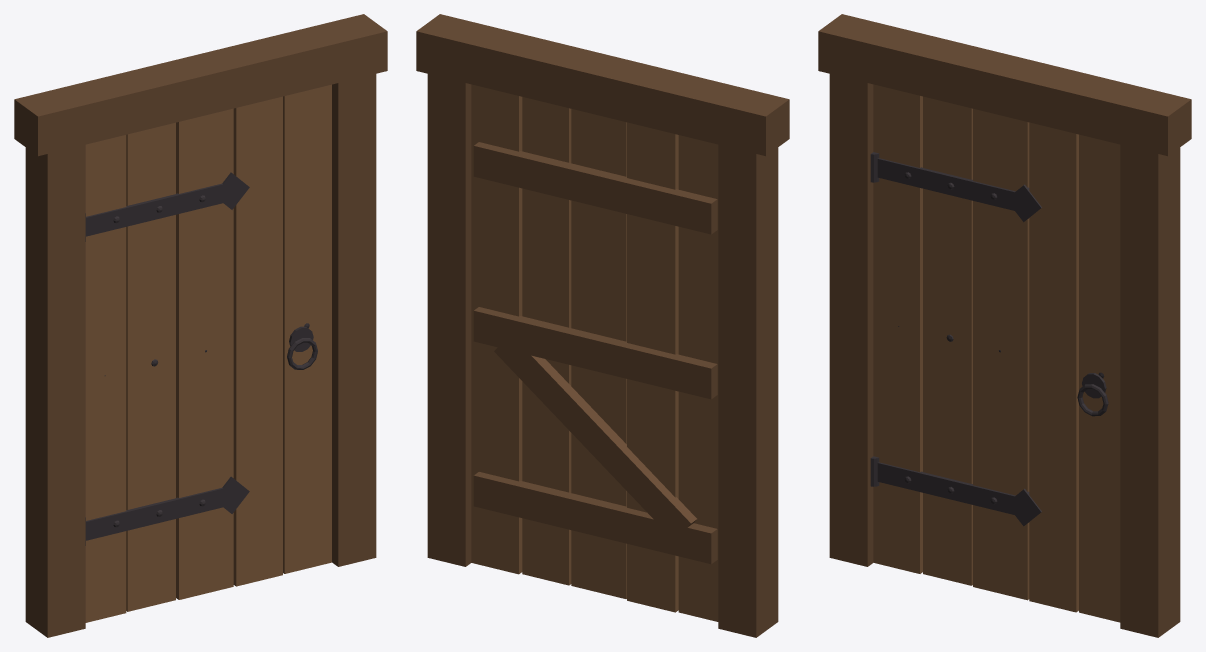
Rendered from SM_Door_Rustic_01.glb.
3 renders of one model, left to right at view 1: azimuth 30°, elevation 25°; view 2: azimuth 150°, elevation 25°; view 3: azimuth 330°, elevation 25°, orthographic.
Visible parts, largest first — view 1: SM_Door_Rustic_01_Frame, SM_Door_Rustic_01_Plank3, SM_Door_Rustic_01_Plank4, SM_Door_Rustic_01_Plank5, SM_Door_Rustic_01_JambR, SM_Door_Rustic_01_Plank2, SM_Door_Rustic_01_Lintel, SM_Door_Rustic_01_Plank1, SM_Door_Rustic_01_Strap_1.8, SM_Door_Rustic_01_Strap_0.42, SM_Door_Rustic_01_StrapTip_0.42, SM_Door_Rustic_01_StrapTip_1.8; view 2: SM_Door_Rustic_01_Frame, SM_Door_Rustic_01_JambR, SM_Door_Rustic_01_Lintel, SM_Door_Rustic_01_Plank5, SM_Door_Rustic_01_Plank3, SM_Door_Rustic_01_Plank2, SM_Door_Rustic_01_Plank4, SM_Door_Rustic_01_Plank1, SM_Door_Rustic_01_Ledge3, SM_Door_Rustic_01_Ledge2, SM_Door_Rustic_01_Ledge1, SM_Door_Rustic_01_Brace; view 3: SM_Door_Rustic_01_JambR, SM_Door_Rustic_01_Plank3, SM_Door_Rustic_01_Plank4, SM_Door_Rustic_01_Frame, SM_Door_Rustic_01_Plank1, SM_Door_Rustic_01_Plank2, SM_Door_Rustic_01_Lintel, SM_Door_Rustic_01_Plank5, SM_Door_Rustic_01_Strap_0.42, SM_Door_Rustic_01_Strap_1.8, SM_Door_Rustic_01_StrapTip_1.8, SM_Door_Rustic_01_StrapTip_0.42.
Boxes of the visible parts, x1,y1,x2,y2 form: SM_Door_Rustic_01_Frame: (25,88,85,637); SM_Door_Rustic_01_Plank3: (176,108,233,599); SM_Door_Rustic_01_Plank4: (233,96,282,586); SM_Door_Rustic_01_Plank5: (283,84,331,573); SM_Door_Rustic_01_JambR: (316,17,376,566); SM_Door_Rustic_01_Plank2: (126,122,175,611); SM_Door_Rustic_01_Lintel: (14,14,387,156); SM_Door_Rustic_01_Plank1: (85,135,126,622); SM_Door_Rustic_01_Strap_1.8: (86,183,223,236); SM_Door_Rustic_01_Strap_0.42: (86,488,223,540); SM_Door_Rustic_01_StrapTip_0.42: (215,476,249,513); SM_Door_Rustic_01_StrapTip_1.8: (216,172,249,209); SM_Door_Rustic_01_Frame: (718,88,778,637); SM_Door_Rustic_01_JambR: (427,17,487,566); SM_Door_Rustic_01_Lintel: (416,14,789,156); SM_Door_Rustic_01_Plank5: (471,84,522,574); SM_Door_Rustic_01_Plank3: (571,109,626,598); SM_Door_Rustic_01_Plank2: (627,122,678,612); SM_Door_Rustic_01_Plank4: (522,97,571,585); SM_Door_Rustic_01_Plank1: (678,135,718,621); SM_Door_Rustic_01_Ledge3: (473,142,717,234); SM_Door_Rustic_01_Ledge2: (473,307,717,399); SM_Door_Rustic_01_Ledge1: (473,472,717,564); SM_Door_Rustic_01_Brace: (494,334,696,541); SM_Door_Rustic_01_JambR: (1120,88,1180,637); SM_Door_Rustic_01_Plank3: (973,108,1029,600); SM_Door_Rustic_01_Plank4: (1029,122,1078,612); SM_Door_Rustic_01_Frame: (829,17,889,566); SM_Door_Rustic_01_Plank1: (873,84,922,573); SM_Door_Rustic_01_Plank2: (923,96,972,585); SM_Door_Rustic_01_Lintel: (818,14,1191,156); SM_Door_Rustic_01_Plank5: (1079,134,1120,622); SM_Door_Rustic_01_Strap_0.42: (877,462,1015,515); SM_Door_Rustic_01_Strap_1.8: (877,158,1015,210); SM_Door_Rustic_01_StrapTip_1.8: (1009,184,1041,222); SM_Door_Rustic_01_StrapTip_0.42: (1015,488,1041,526).
Bounding box in the file's own units: 1.66 × 2.38 × 0.1944.
